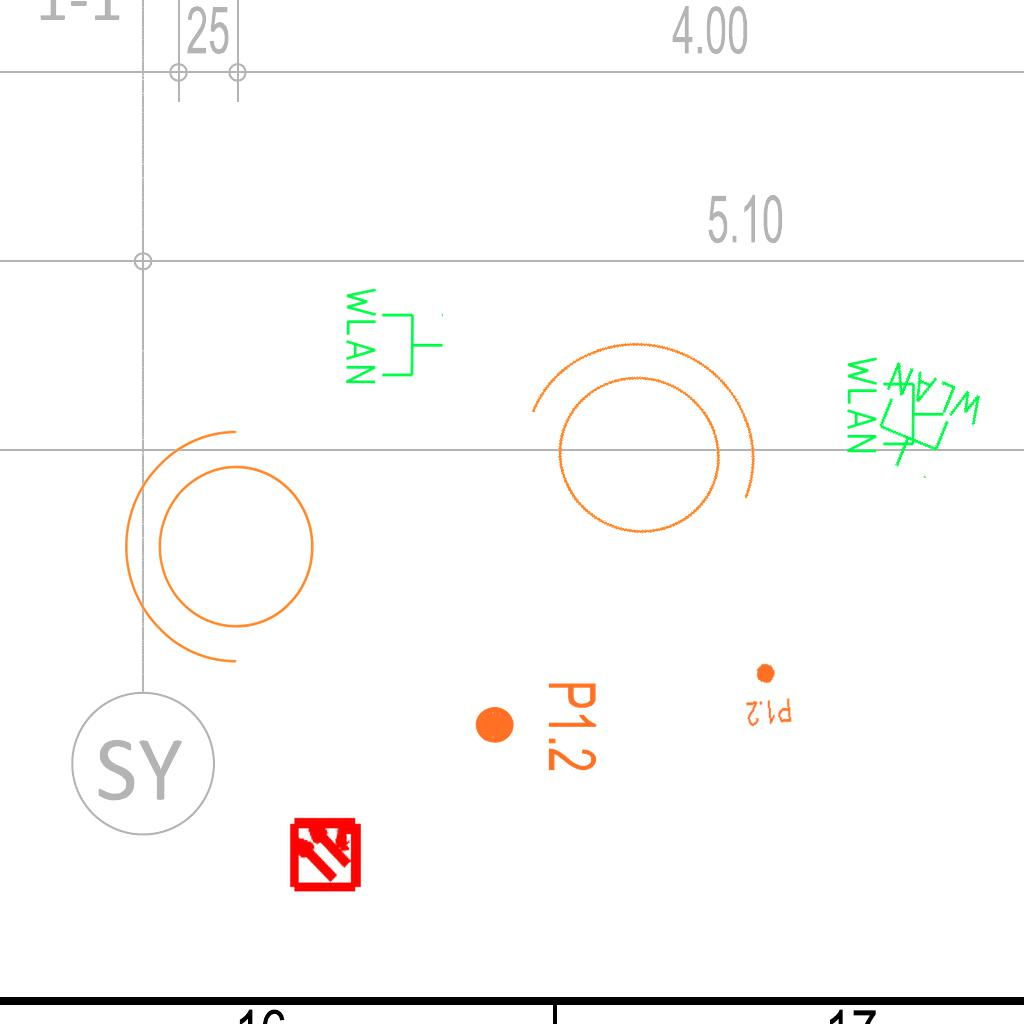Downlight_LED_Einbauleuchten_Flur: (472, 680, 600, 773), (740, 659, 794, 729)
OT_Multisensormelder_(Kombination_RMO_WMD): (269, 796, 382, 909)
Scheinwerfer_fuer_Alarmbeleuchtung: (472, 289, 802, 598), (114, 421, 339, 685)
WLAN: (855, 356, 993, 493), (843, 352, 947, 457), (342, 283, 446, 388)
